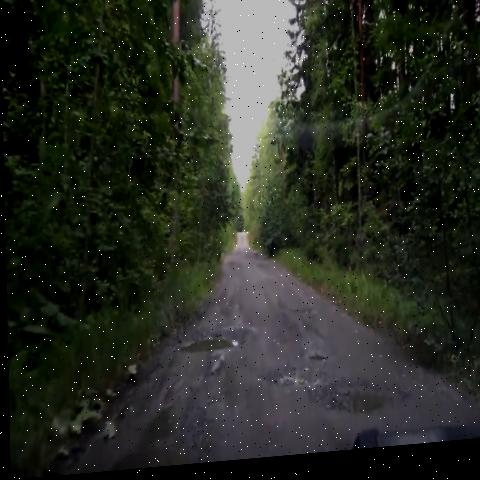pothole: (104, 373, 225, 473), (303, 382, 402, 427), (174, 326, 248, 370), (259, 364, 316, 404), (303, 353, 330, 374)
